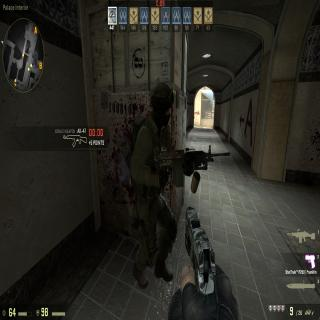CT-Body: (128, 82, 176, 284)
CT-Head: (150, 79, 174, 131)
